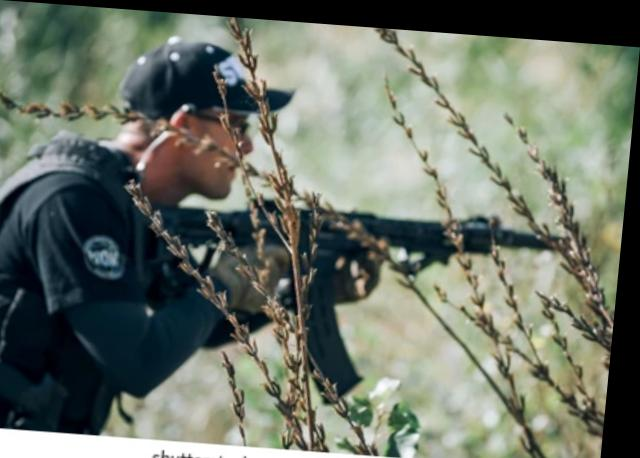other: (0, 43, 271, 428)
